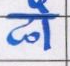o_matra: (35, 0, 54, 50)
